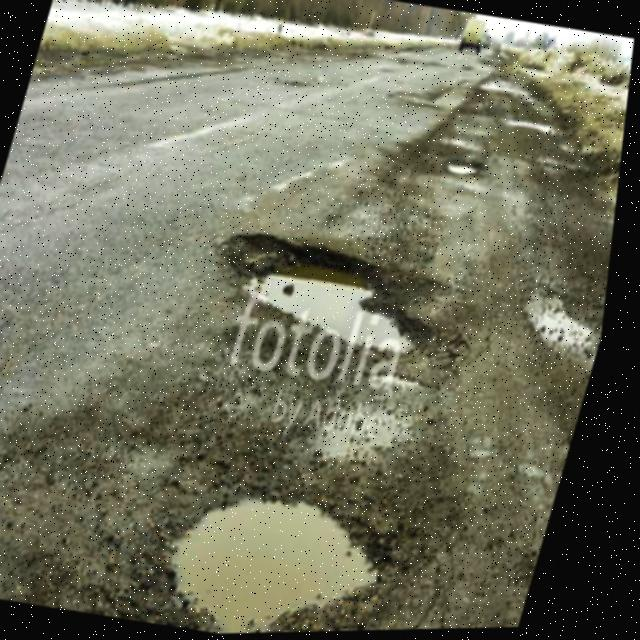Pothole: (192, 201, 510, 410), (153, 445, 495, 636), (492, 249, 617, 395), (453, 46, 571, 114), (496, 114, 590, 166), (422, 122, 514, 169), (442, 162, 505, 195)
